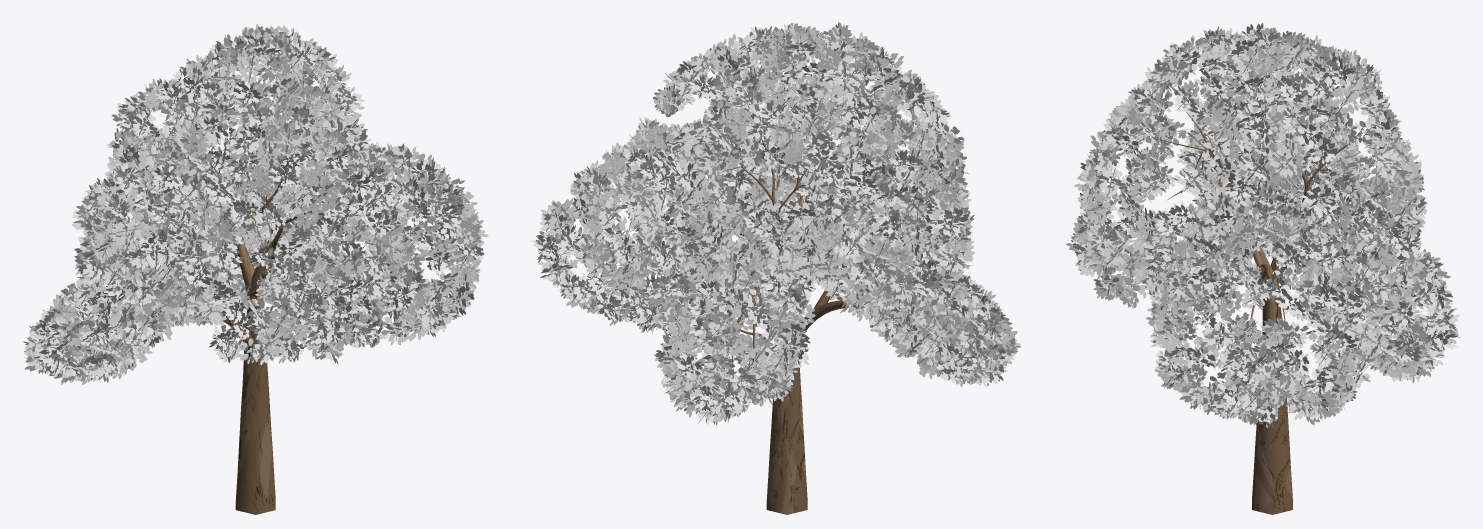
Rendered from Tree03.fbx.
3 views of the same model, side by side, from view 1: azimuth 30°, elevation 25°; view 2: azimuth 150°, elevation 25°; view 3: azimuth 270°, elevation 25° (orthographic). The views are drawn at different scales.
Parts seen in each view (by area): view 1: Leaves03, Trunk03; view 2: Leaves03, Trunk03; view 3: Leaves03, Trunk03.
Boxes of the visible parts, x1,y1,x2,y2 form: Leaves03: [23, 23, 488, 385]; Trunk03: [79, 92, 376, 514]; Leaves03: [531, 22, 1021, 425]; Trunk03: [630, 97, 954, 514]; Leaves03: [1066, 23, 1460, 428]; Trunk03: [1154, 75, 1388, 514].
Size of the model in its own units: 279 by 274 by 210.
